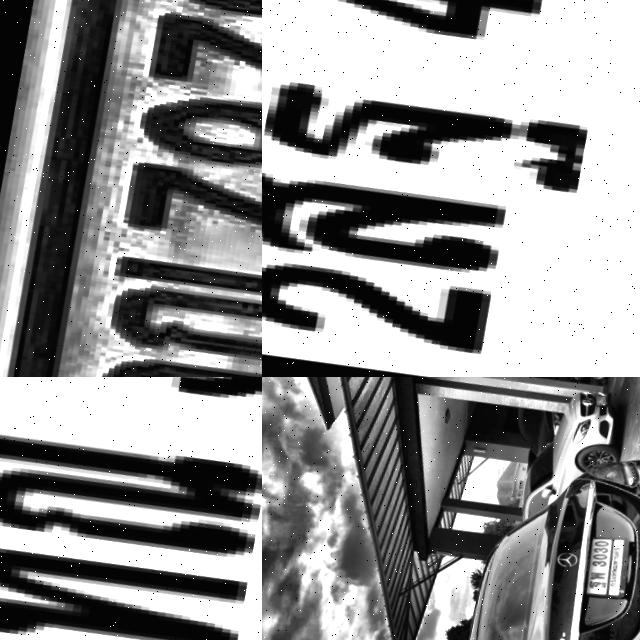license-plate: (262, 0, 640, 377), (0, 0, 262, 377), (0, 377, 262, 640), (573, 534, 633, 609), (590, 397, 609, 414)
